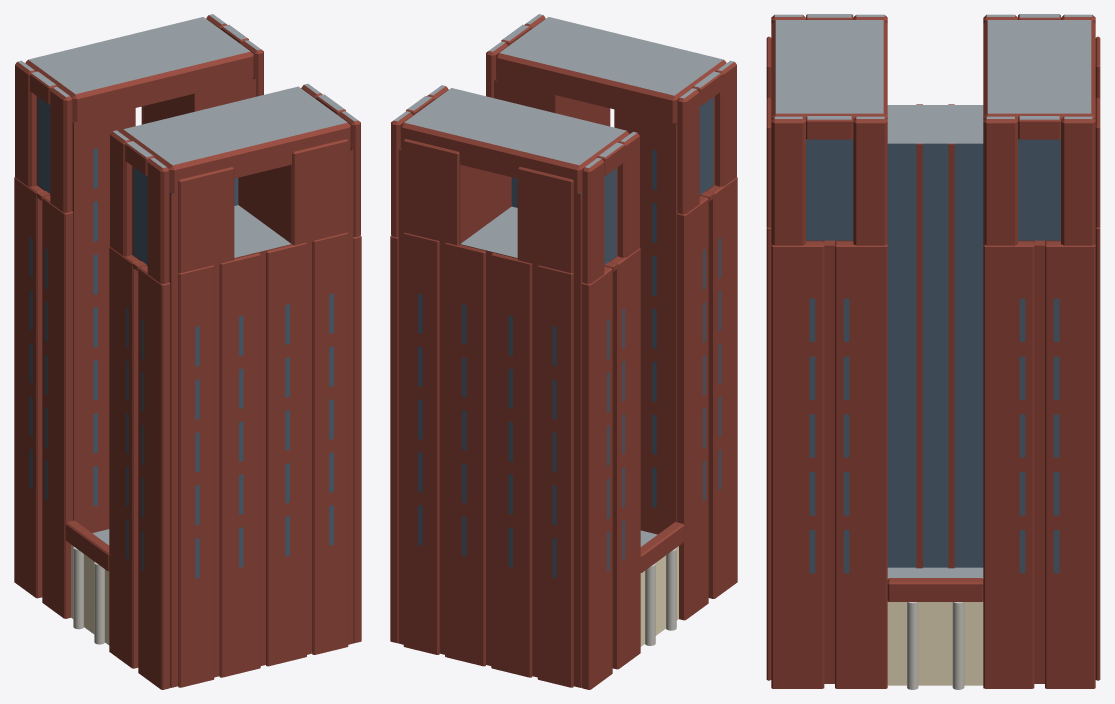
Rendered from seoul-kyobo-tower.glb.
The picture shows the model from 3 angles, left to right: view 1: azimuth 30°, elevation 25°; view 2: azimuth 150°, elevation 25°; view 3: azimuth 270°, elevation 25°; orthographic projection. The views are drawn at different scales.
Visible parts, largest first — view 1: Kyobo Tower; view 2: Kyobo Tower; view 3: Kyobo Tower.
Part boxes in pixels (x1,y1,x2,y2): Kyobo Tower: (14, 14, 361, 689); Kyobo Tower: (390, 14, 737, 689); Kyobo Tower: (766, 14, 1100, 689).
Size of the model in its own units: 48.6 by 118 by 62.9.
